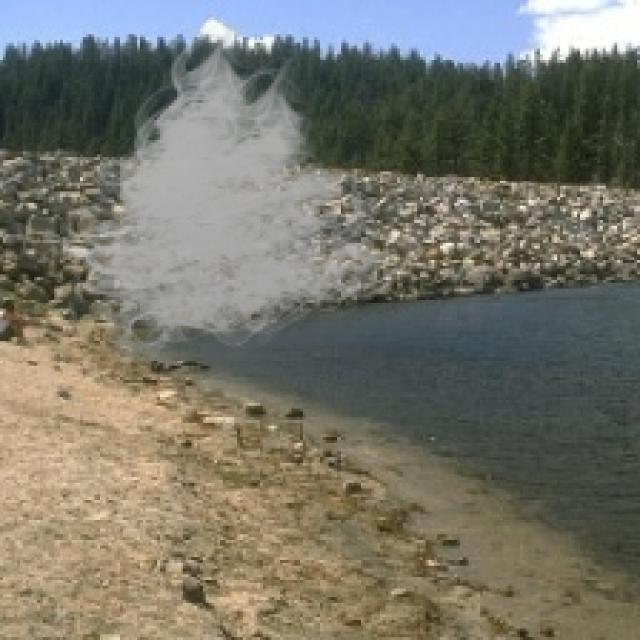Smoke: (49, 22, 428, 372)
